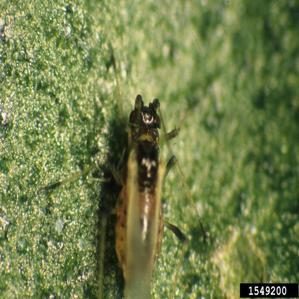Green peach aphid: (64, 67, 223, 299)
